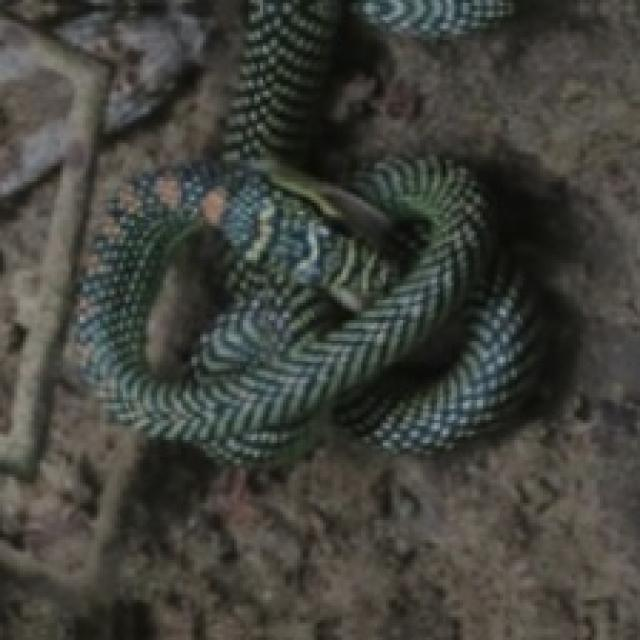paradise tree snake: (80, 0, 540, 460)
